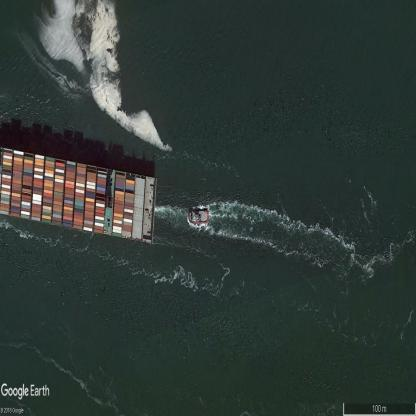ship: (188, 208, 210, 224)
